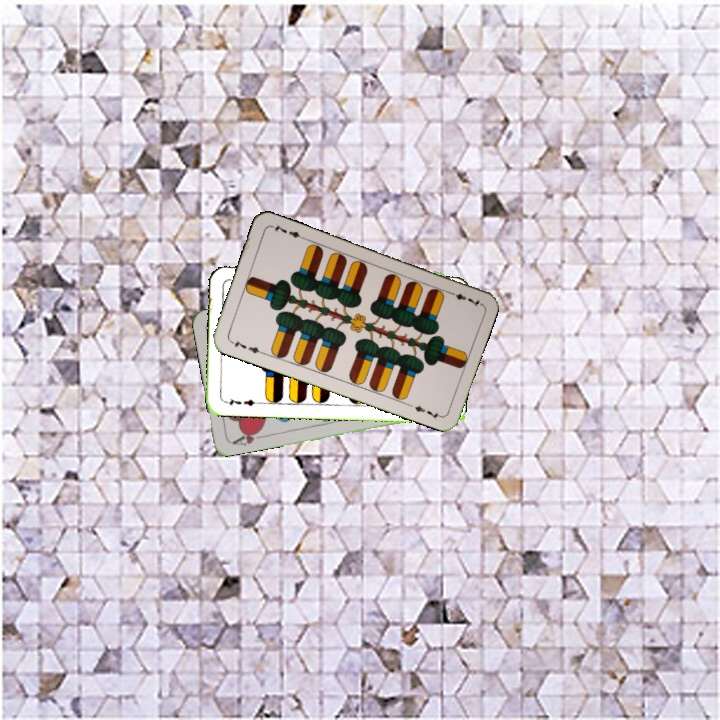E7: (444, 287, 483, 309), (226, 336, 266, 357), (220, 394, 261, 408)
HA: (228, 425, 268, 448)
